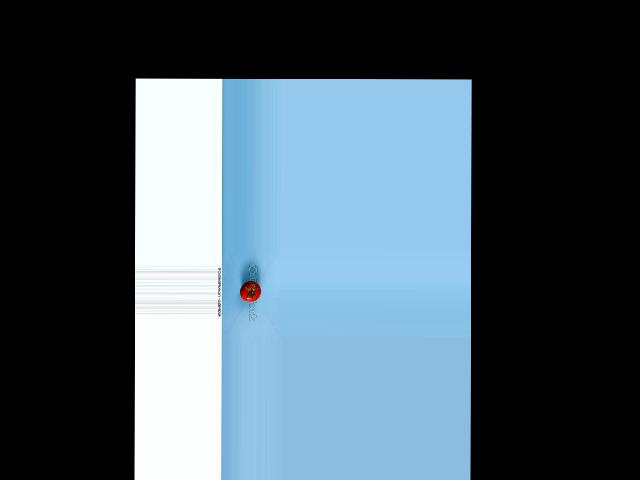tomato: (239, 281, 260, 301)
